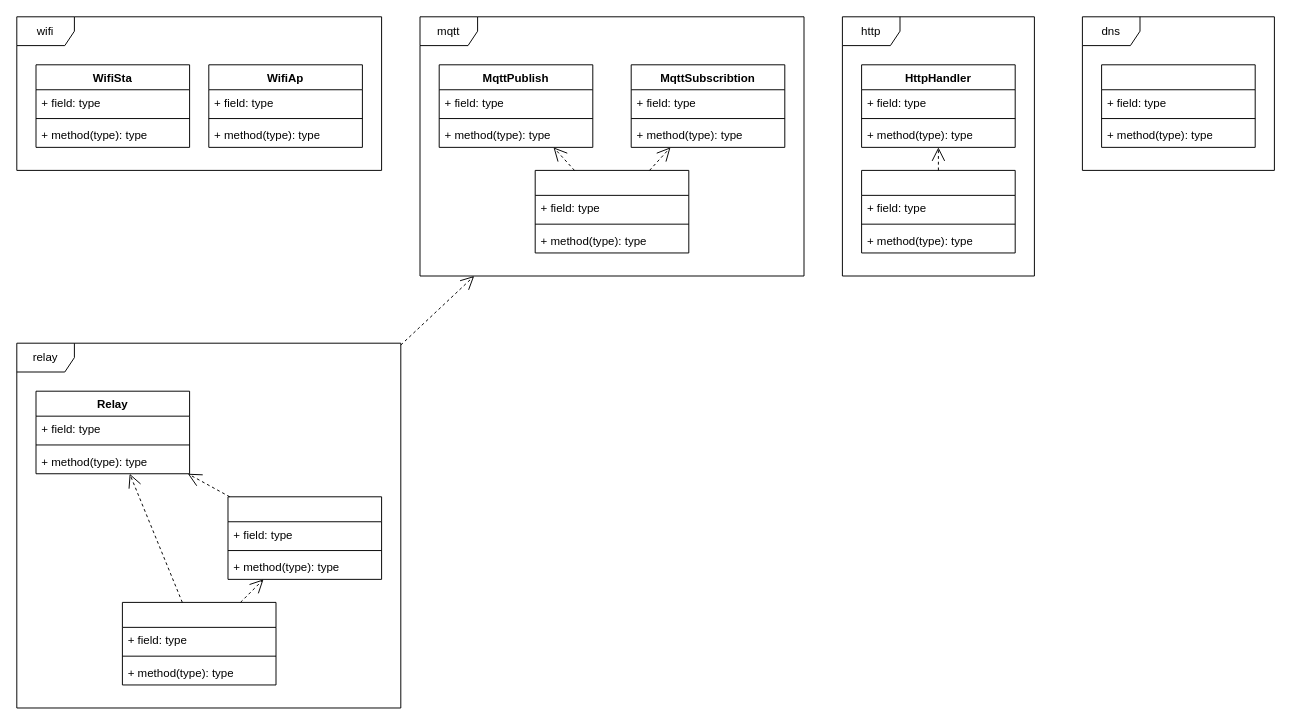
Image size: 1291x725. Some labels were removed from this diagram. Here are the shapes that lost their labels. From the top down, the box of each, then its label:
(1101, 64, 1255, 147): DnsServer
(534, 169, 689, 253): MqttClient
(861, 169, 1015, 253): HttpServer
(227, 496, 382, 579): RelayRepository
(121, 601, 276, 685): RelayService
